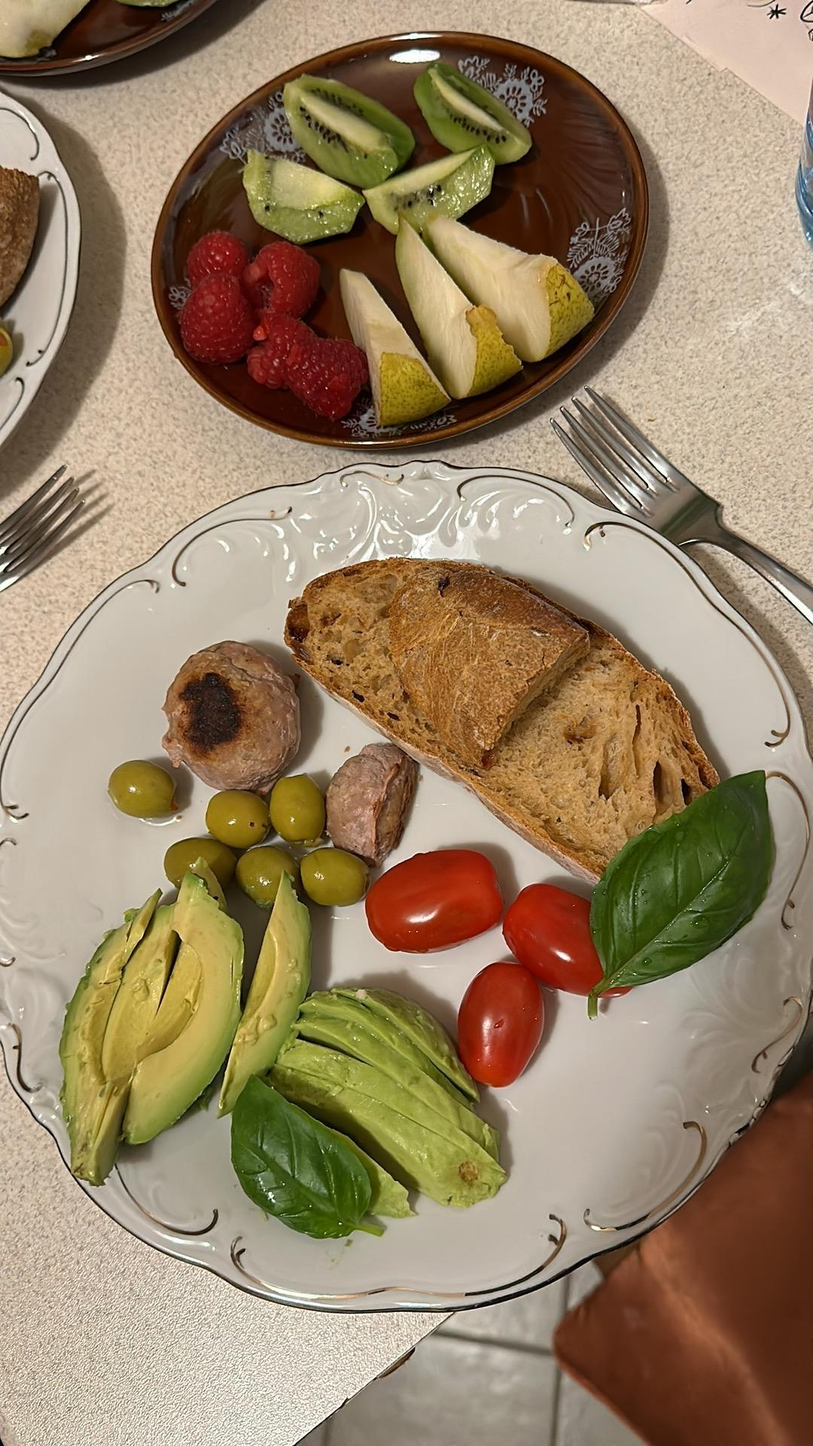avocado: (278, 985, 503, 1226), (116, 874, 242, 1152), (63, 888, 147, 1188), (213, 880, 303, 1118)
tomato: (359, 852, 503, 953), (502, 880, 618, 1002), (459, 959, 549, 1091)
